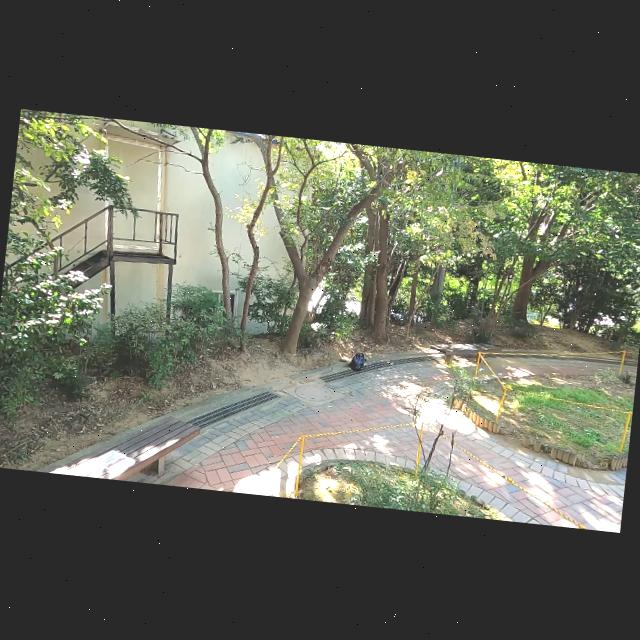trash: (348, 349, 368, 371)
